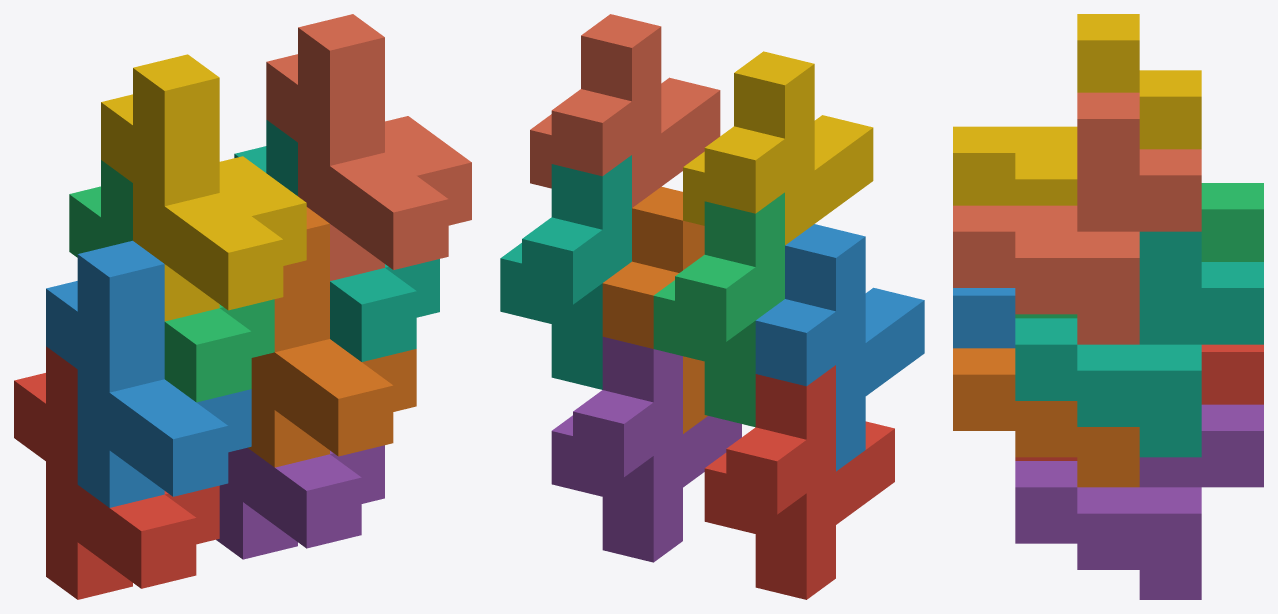
Rendered from tiling.obj.
The picture shows the model from 3 angles, left to right: view 1: azimuth 30°, elevation 25°; view 2: azimuth 150°, elevation 25°; view 3: azimuth 270°, elevation 25°; orthographic projection. The views are drawn at different scales.
Visible parts, largest first — view 1: copy_1_domain_4, copy_1_domain_8, copy_1_domain_2, copy_1_domain_6, copy_1_domain_1, copy_1_domain_5, copy_1_domain_3, copy_1_domain_7; view 2: copy_1_domain_1, copy_1_domain_5, copy_1_domain_2, copy_1_domain_4, copy_1_domain_8, copy_1_domain_7, copy_1_domain_3, copy_1_domain_6; view 3: copy_1_domain_8, copy_1_domain_7, copy_1_domain_5, copy_1_domain_4, copy_1_domain_6, copy_1_domain_3, copy_1_domain_1, copy_1_domain_2.
Boxes of the visible parts, x1,y1,x2,y2 form: copy_1_domain_4: [101, 54, 306, 321]; copy_1_domain_8: [266, 14, 471, 280]; copy_1_domain_2: [46, 240, 251, 507]; copy_1_domain_6: [248, 207, 416, 467]; copy_1_domain_1: [14, 346, 219, 599]; copy_1_domain_5: [216, 445, 384, 559]; copy_1_domain_3: [69, 160, 274, 402]; copy_1_domain_7: [234, 120, 439, 361]; copy_1_domain_1: [704, 365, 894, 599]; copy_1_domain_5: [551, 336, 741, 562]; copy_1_domain_2: [755, 224, 924, 471]; copy_1_domain_4: [683, 51, 873, 245]; copy_1_domain_8: [530, 14, 720, 207]; copy_1_domain_7: [500, 155, 631, 389]; copy_1_domain_3: [653, 192, 784, 427]; copy_1_domain_6: [602, 186, 707, 433]; copy_1_domain_8: [953, 92, 1201, 344]; copy_1_domain_7: [1015, 231, 1263, 457]; copy_1_domain_5: [1015, 404, 1263, 599]; copy_1_domain_4: [953, 14, 1201, 205]; copy_1_domain_6: [953, 348, 1139, 487]; copy_1_domain_3: [1015, 183, 1263, 318]; copy_1_domain_1: [1015, 344, 1263, 460]; copy_1_domain_2: [953, 288, 1015, 348].
Size of the model in its own units: 6 by 9 by 5.
